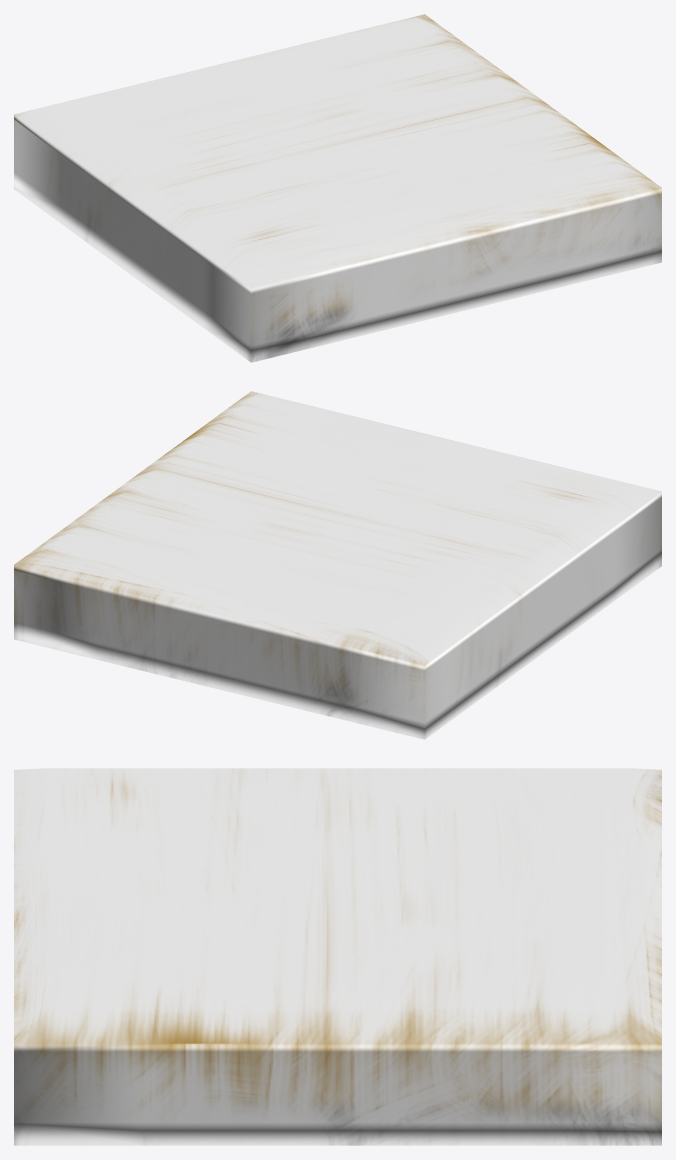
Rendered from White Square.fbx.
3 views of the same model, one above another, from view 1: azimuth 30°, elevation 25°; view 2: azimuth 150°, elevation 25°; view 3: azimuth 270°, elevation 25° (orthographic). The views are drawn at different scales.
Parts seen in each view (by area): view 1: cube; view 2: cube; view 3: cube.
Boxes of the visible parts, x1,y1,x2,y2 form: cube: [14, 14, 661, 362]; cube: [14, 391, 661, 739]; cube: [14, 768, 661, 1145].
Bounding box in the file's own units: 8 × 1.6 × 8.
Materials: 1 (1 with a texture image).
